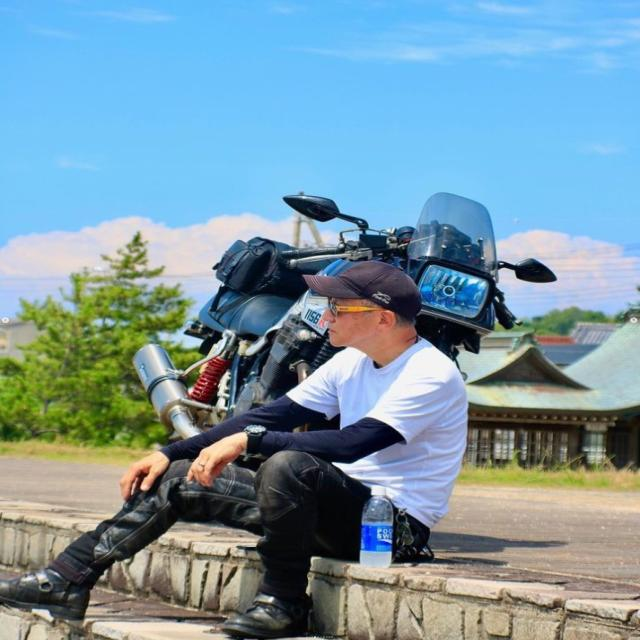illegal_helmet: (297, 258, 425, 352)
